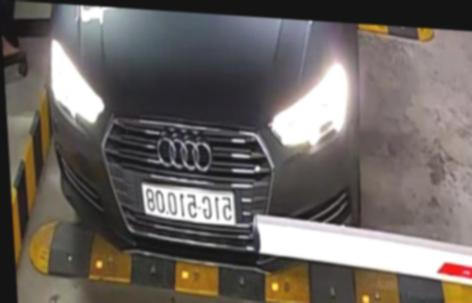License_Plate: (141, 175, 238, 228)
